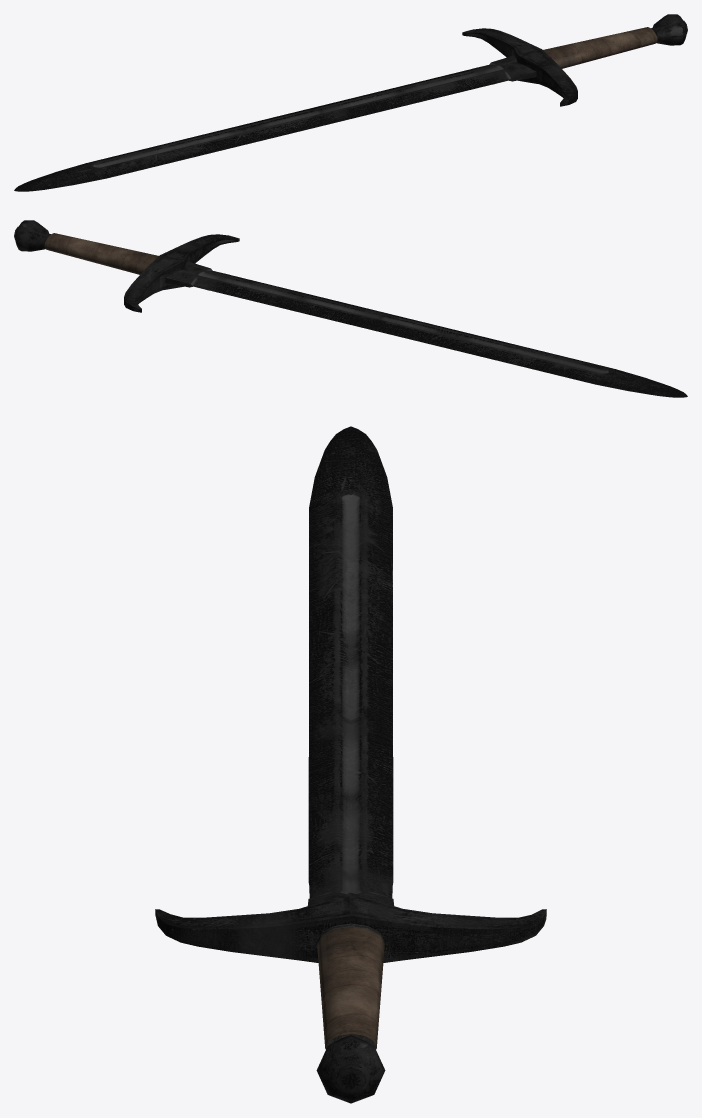
The model's file is medieval_short_sword_worn.glb.
3 renders of one model, top to bottom at view 1: azimuth 30°, elevation 25°; view 2: azimuth 150°, elevation 25°; view 3: azimuth 270°, elevation 25°, orthographic. The views are drawn at different scales.
Visible parts, largest first — view 1: Sword; view 2: Sword; view 3: Sword.
Part boxes in pixels (<box>): Sword: <box>14,14,687,191</box>; Sword: <box>14,220,687,397</box>; Sword: <box>155,426,546,1103</box>.
Size of the model in its own units: 0.7541 by 0.0335 by 0.1905.
1 material, 1 textured.
